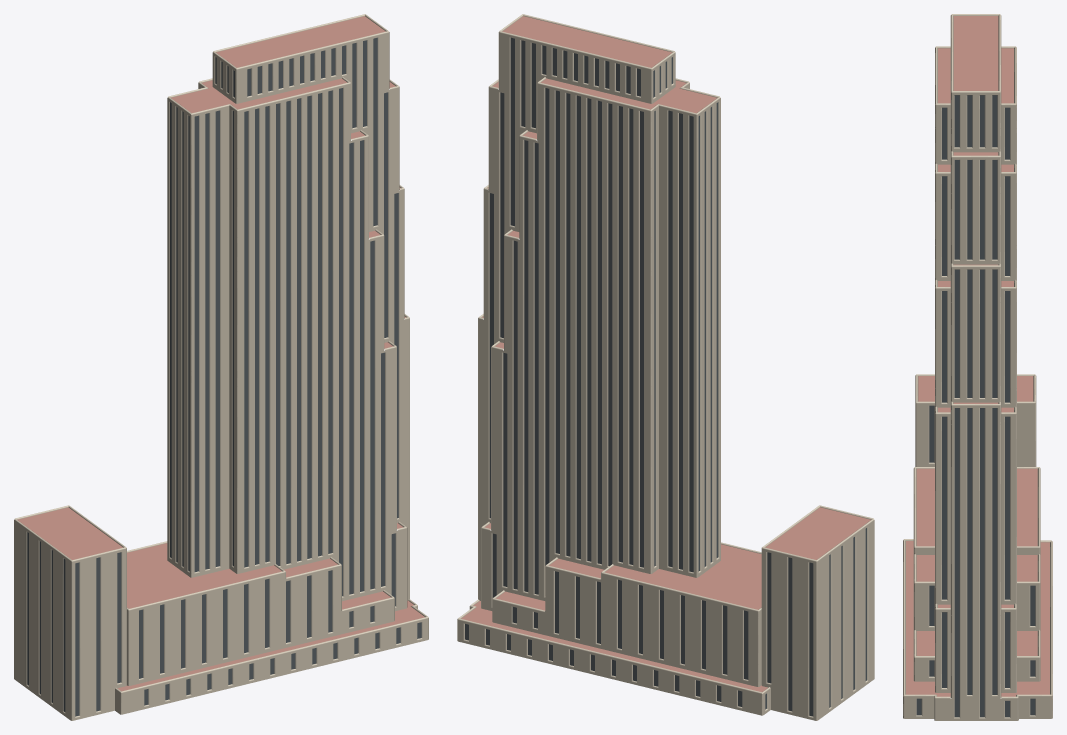
Rendered from 30-rockefeller-plaza.glb.
3 renders of one model, left to right at view 1: azimuth 30°, elevation 25°; view 2: azimuth 150°, elevation 25°; view 3: azimuth 270°, elevation 25°, orthographic. The views are drawn at different scales.
Visible parts, largest first — view 1: 30 Rockefeller Plaza; view 2: 30 Rockefeller Plaza; view 3: 30 Rockefeller Plaza.
Part boxes in pixels (x1,y1,x2,y2): 30 Rockefeller Plaza: (14,14,428,720); 30 Rockefeller Plaza: (457,14,874,720); 30 Rockefeller Plaza: (903,14,1052,720).
Bounding box in the file's own units: 163 × 260 × 57.1.
